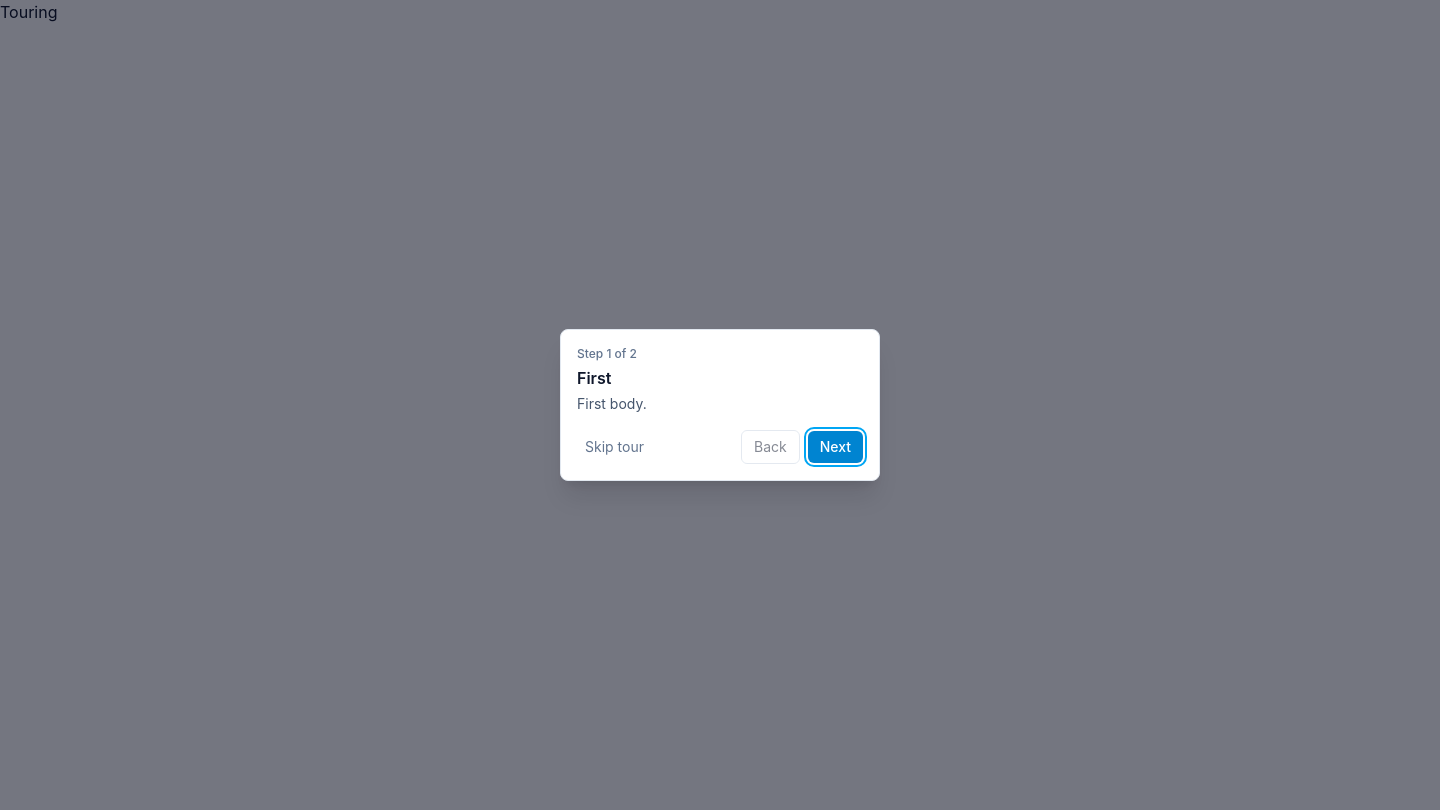
TourProvider › persists the seen version on skip and closes
Click the button "Skip tour" at (614, 447), box [577,433,652,461]
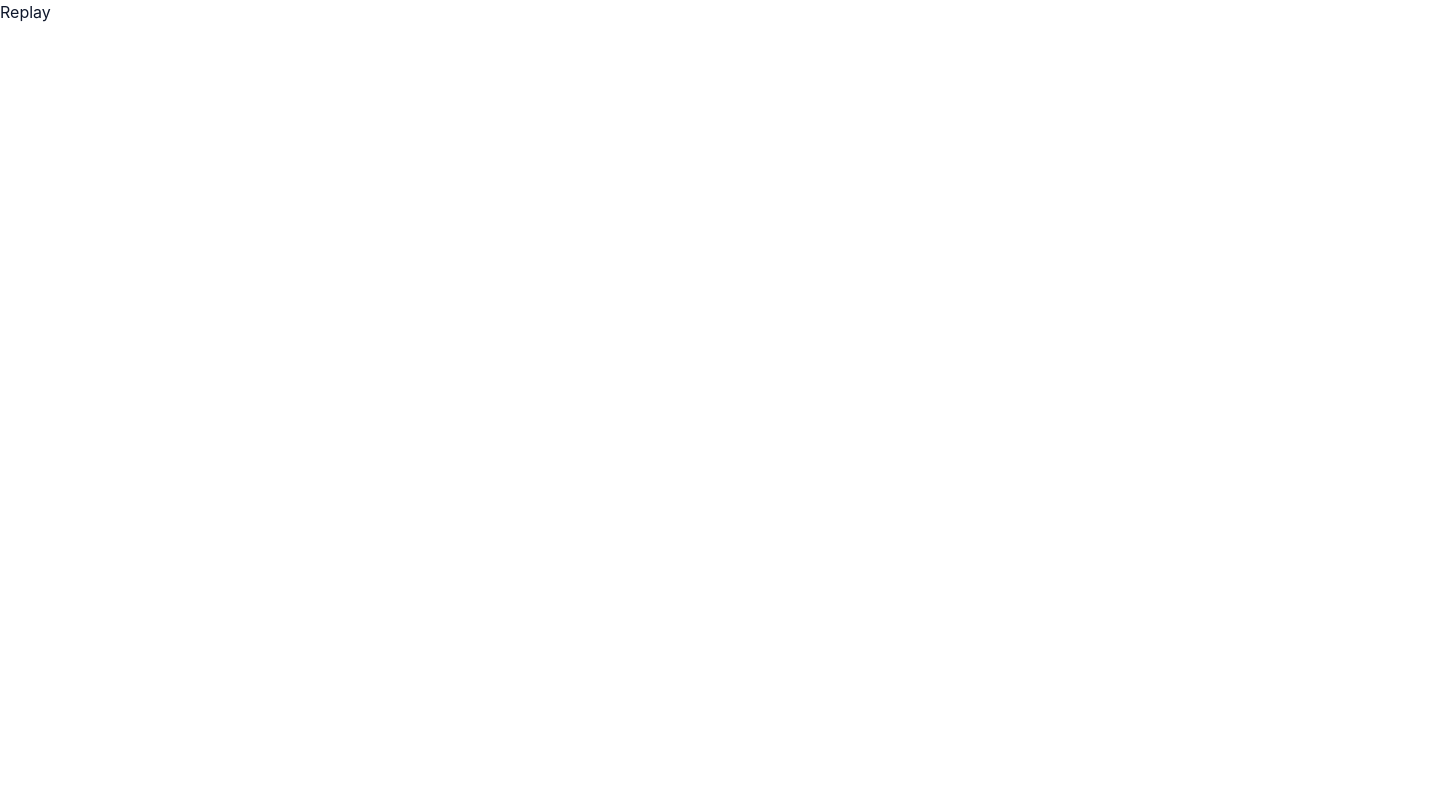
expect the dialog is gone: met
